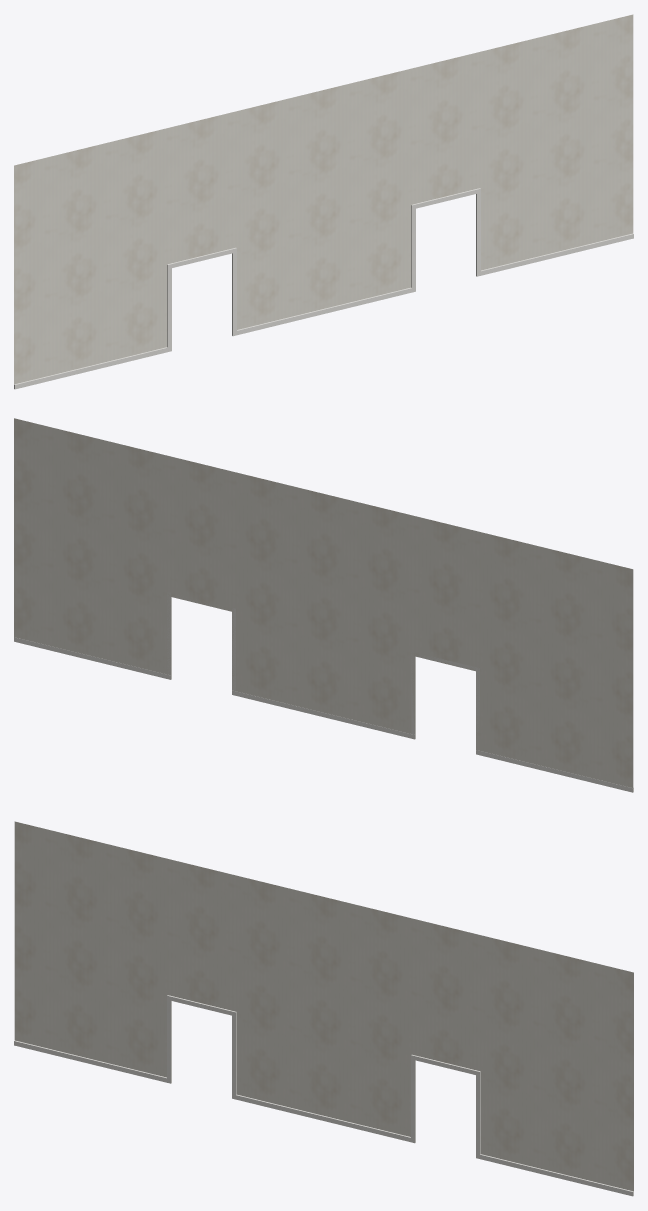
3 views of the same model, one above another, from view 1: azimuth 30°, elevation 25°; view 2: azimuth 150°, elevation 25°; view 3: azimuth 330°, elevation 25° (orthographic).
Visible parts, largest first — view 1: jx_wm_20_0487a46d; view 2: jx_wm_20_0487a46d; view 3: jx_wm_20_0487a46d.
Part boxes in pixels (<box>): jx_wm_20_0487a46d: <box>14,14,633,389</box>; jx_wm_20_0487a46d: <box>14,418,633,792</box>; jx_wm_20_0487a46d: <box>14,821,633,1196</box>.
Size of the model in its own units: 20.3 by 7 by 0.05.
Materials: 2 (2 with a texture image).
